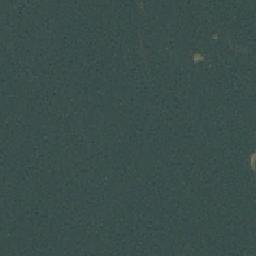debris: (248, 151, 256, 169), (193, 52, 204, 64)
